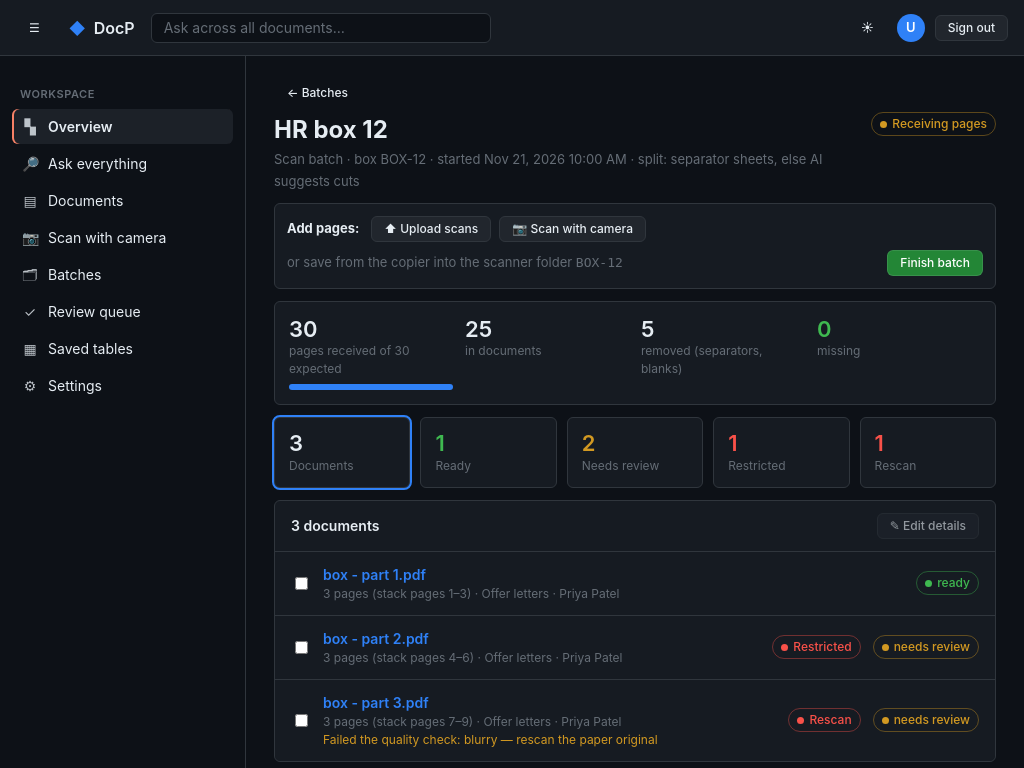
Test: reconciliation figures, drill-down by state, QC sample and results
Later steps or results of the test are not shown.
Expected: the text "pages received of 30 expected" is shown, [289,343,410,376]
Expected: the text "missing" is shown, [817,343,860,358]
Click the tab "1 Restricted". click: (781, 453)
box: [713,417,850,488]
(page scrolled)
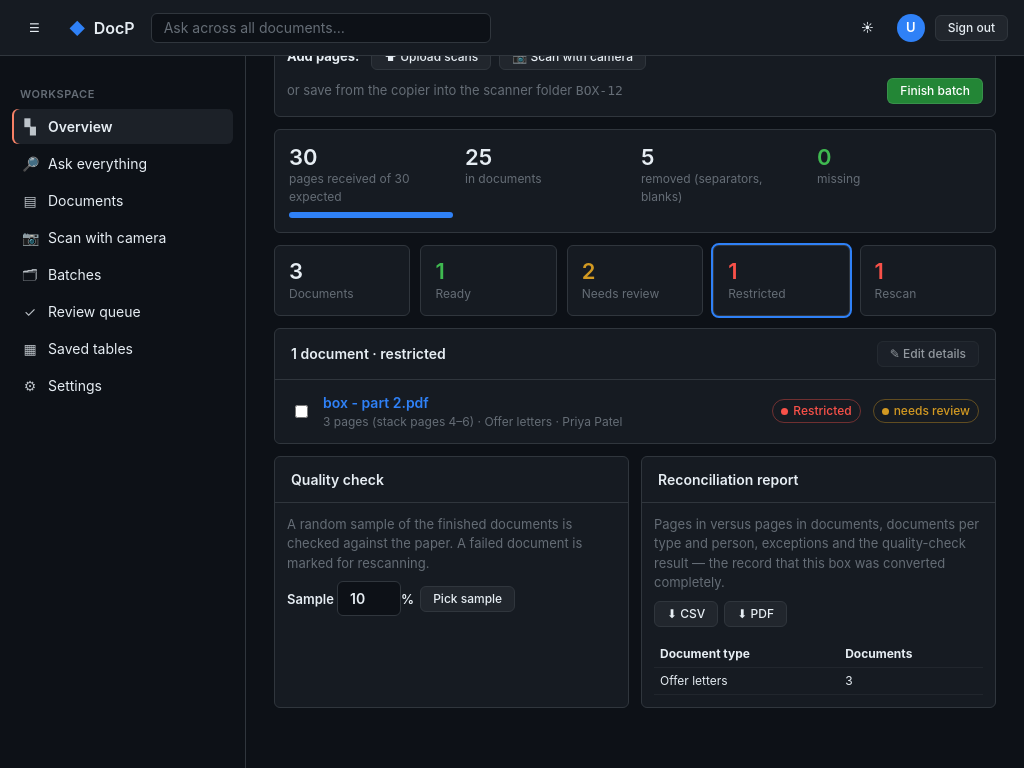
Expected: the link "box - part 2.pdf" is shown, [323,394,429,411]
Now the text "1 document · restricted" is shown, box [291,345,446,362]
Now the link "box - part 1.pdf" is gone
Click the button "Pick sample". click: (468, 599)
box: [420,586,515,612]
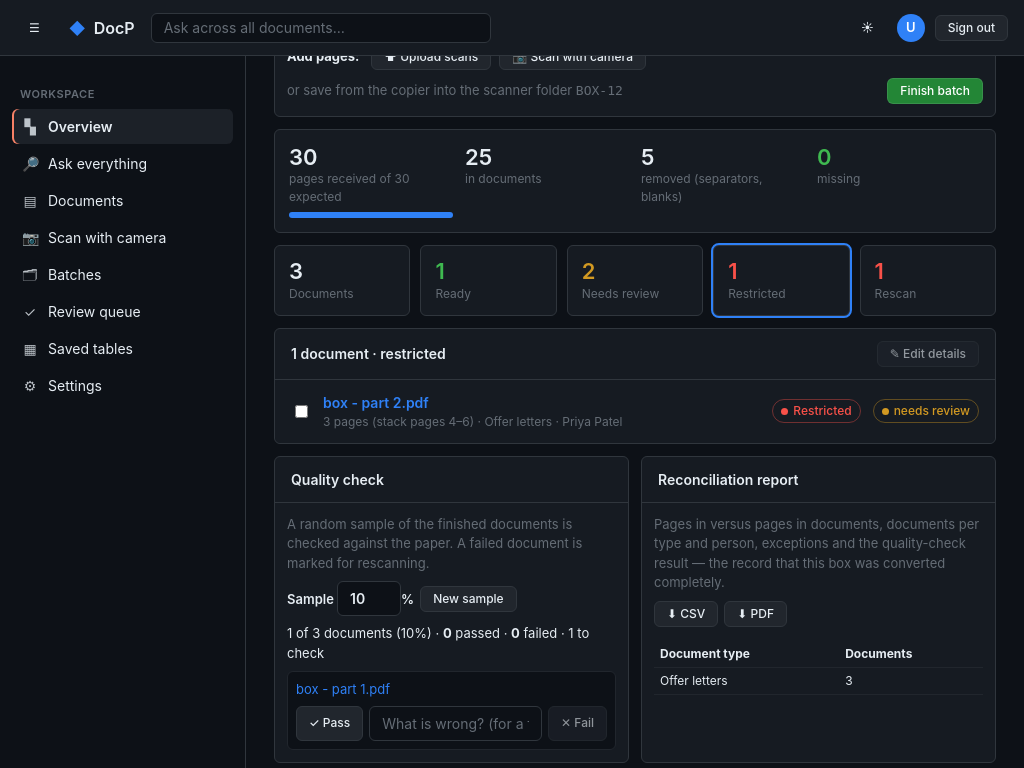
Now the button "✕ Fail" is disabled, box [548,706,607,741]
